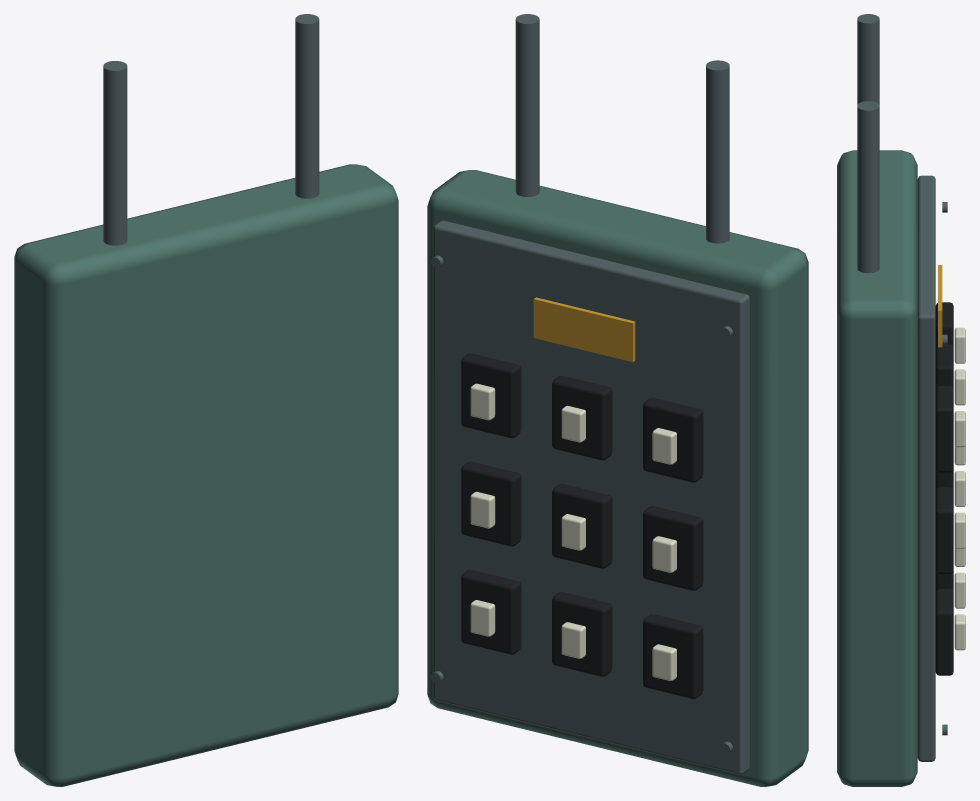
File: ElectricalPanel.obj
The picture shows the model from 3 angles, left to right: view 1: azimuth 30°, elevation 25°; view 2: azimuth 150°, elevation 25°; view 3: azimuth 270°, elevation 25°; orthographic projection. The views are drawn at different scales.
Visible parts, largest first — view 1: ElectricalPanel; view 2: ElectricalPanel; view 3: ElectricalPanel.
Boxes of the visible parts, x1=… form: ElectricalPanel: x1=14, y1=14, x2=398, y2=786; ElectricalPanel: x1=427, y1=14, x2=808, y2=786; ElectricalPanel: x1=837, y1=14, x2=965, y2=786.
Size of the model in its own units: 0.85 by 1.6 by 0.2875.
